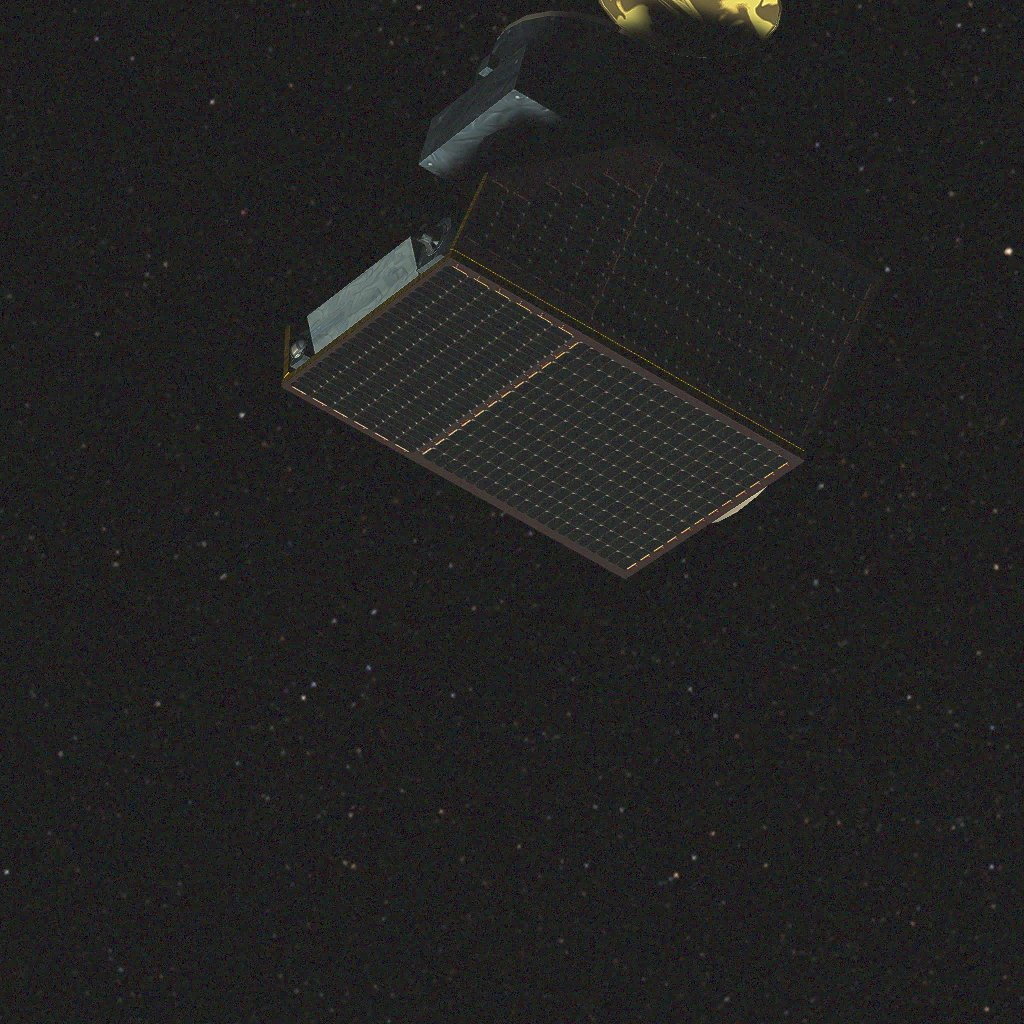cheops: (281, 0, 883, 579)
